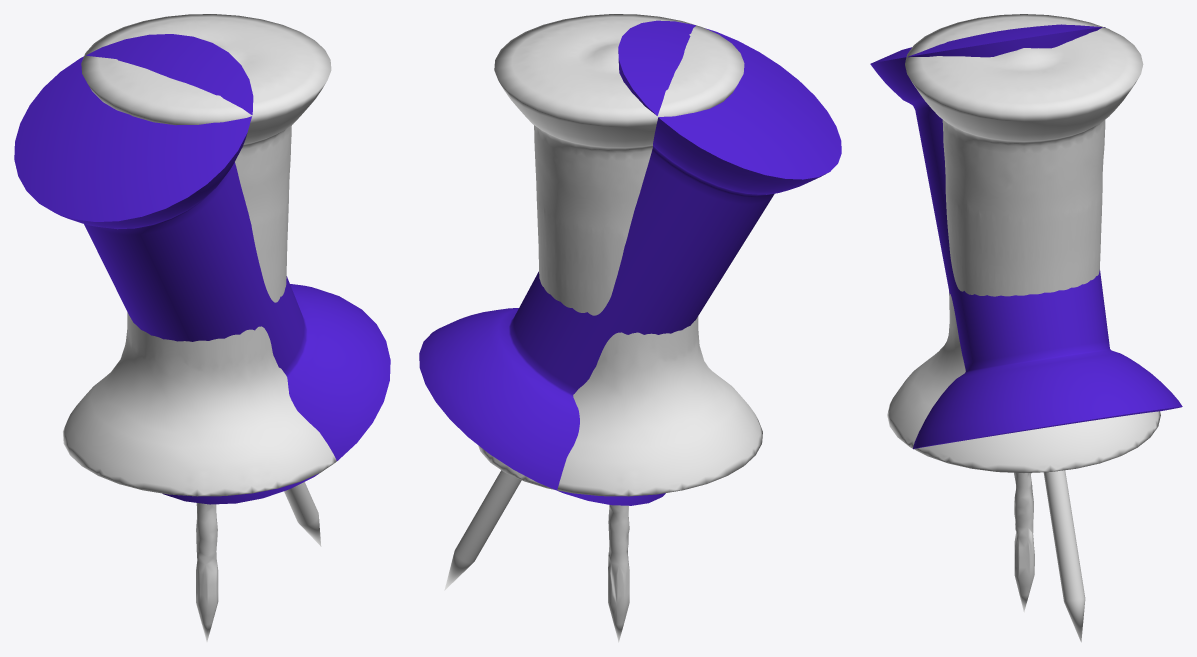
The model's file is Pin.fbx.
3 renders of one model, left to right at view 1: azimuth 30°, elevation 25°; view 2: azimuth 150°, elevation 25°; view 3: azimuth 270°, elevation 25°, orthographic. The views are drawn at different scales.
Parts seen in each view (by area): view 1: Pin, H; view 2: Pin, H; view 3: H, Pin.
Boxes of the visible parts, left/top/right/bottom form: Pin: left=14, top=34, right=390, bottom=546; H: left=63, top=14, right=336, bottom=641; Pin: left=419, top=20, right=841, bottom=590; H: left=478, top=14, right=762, bottom=642; H: left=887, top=14, right=1160, bottom=612; Pin: left=870, top=24, right=1182, bottom=642.
Bounding box in the file's own units: 193 × 308 × 152.
